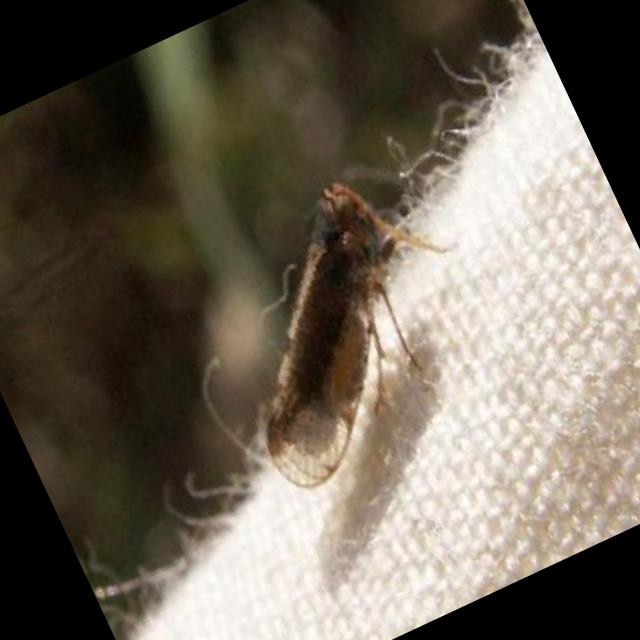brown-planthopper: (263, 183, 418, 492)
